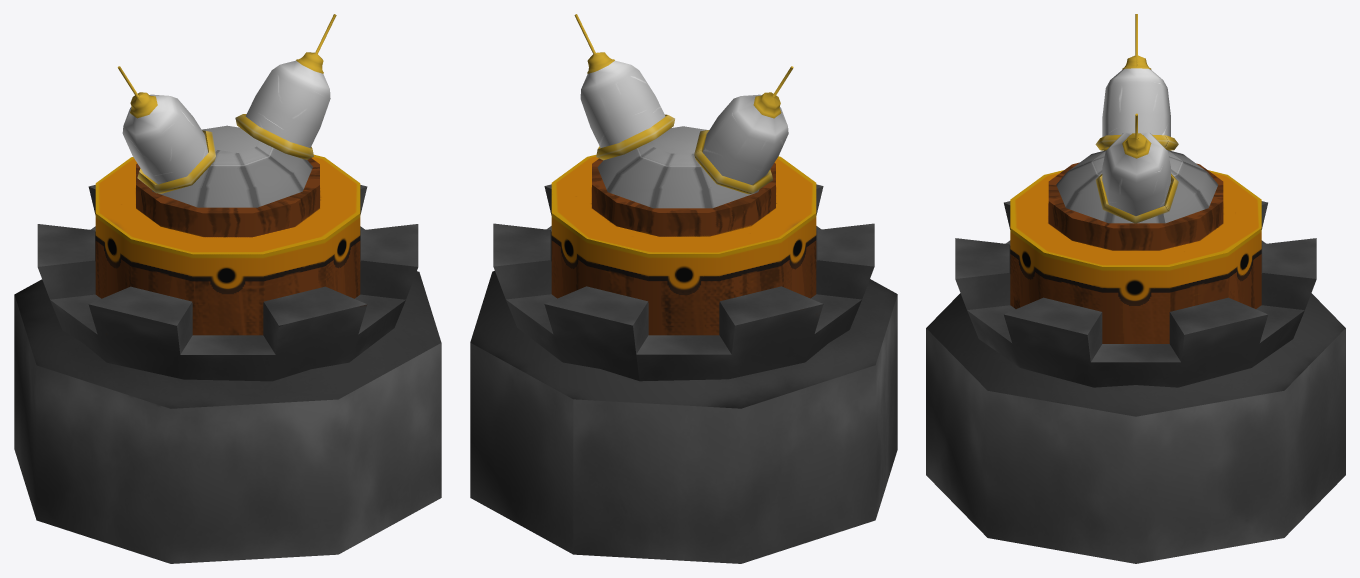
The model's file is Lightning tower 2.fbx.
3 views of the same model, side by side, from view 1: azimuth 30°, elevation 25°; view 2: azimuth 150°, elevation 25°; view 3: azimuth 270°, elevation 25° (orthographic). The views are drawn at different scales.
Parts seen in each view (by area): view 1: L_Tower_2; view 2: L_Tower_2; view 3: L_Tower_2.
Part boxes in pixels (bbox=[...]): L_Tower_2: bbox=[14, 14, 441, 563]; L_Tower_2: bbox=[470, 14, 897, 563]; L_Tower_2: bbox=[926, 14, 1345, 563].
Size of the model in its own units: 105 by 113 by 105.
